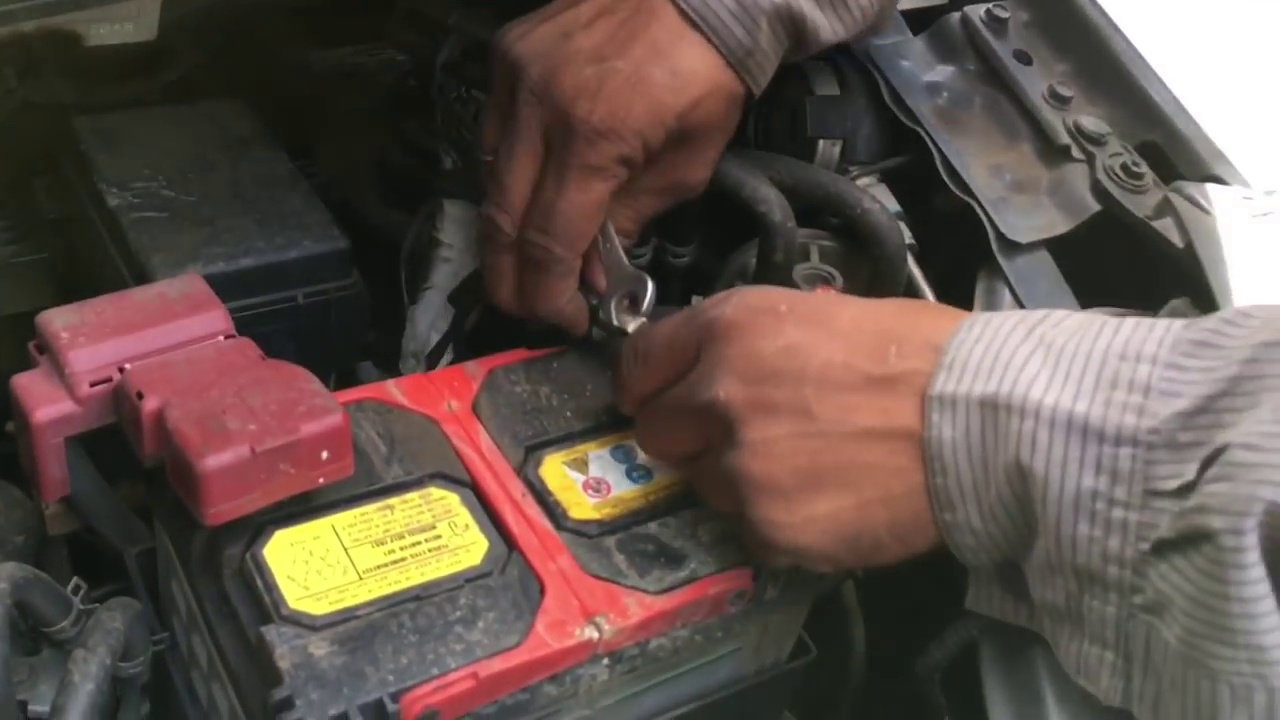battery: (125, 294, 812, 697)
neg_touched: (499, 149, 763, 418)
pos_connected: (91, 286, 378, 525)
